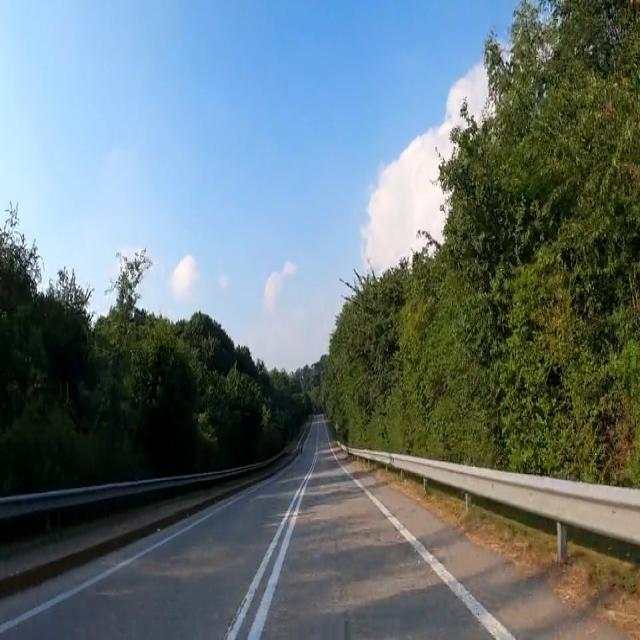lane: (330, 446, 515, 640), (0, 498, 240, 634), (249, 449, 317, 640), (225, 484, 302, 640)
